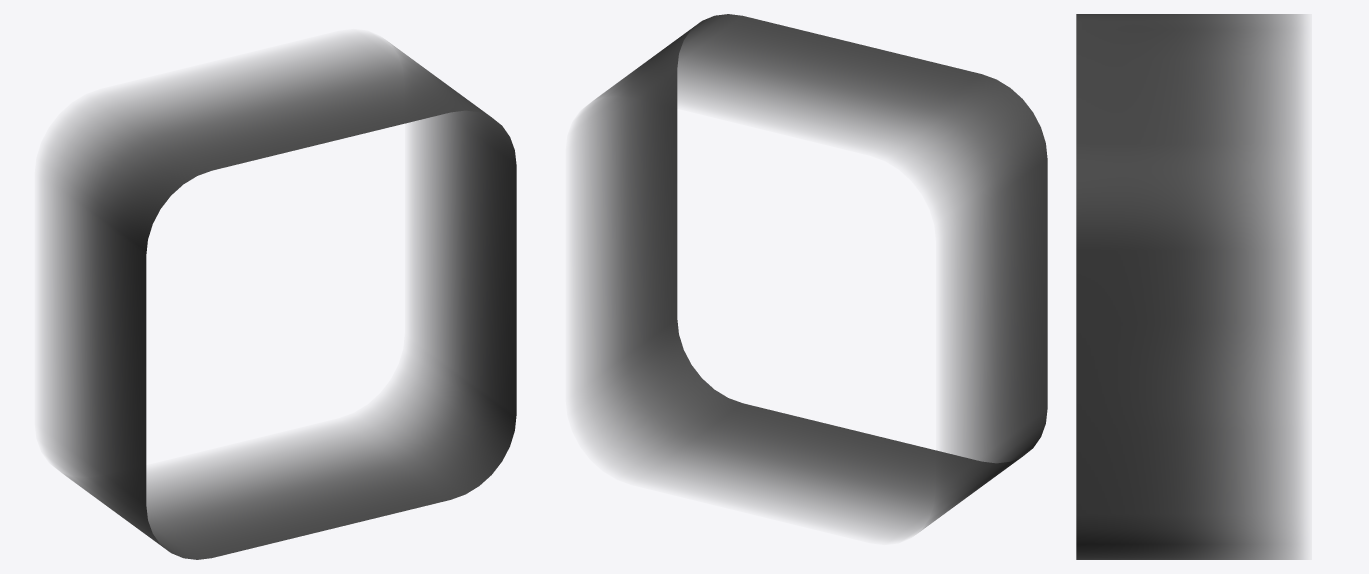
The model's file is frame.glb.
3 renders of one model, left to right at view 1: azimuth 30°, elevation 25°; view 2: azimuth 150°, elevation 25°; view 3: azimuth 270°, elevation 25°, orthographic. The views are drawn at different scales.
Visible parts, largest first — view 1: Cube; view 2: Cube; view 3: Cube.
Part boxes in pixels (x1=…): Cube: x1=41, y1=34, x2=516, y2=559; Cube: x1=572, y1=14, x2=1047, y2=539; Cube: x1=1076, y1=14, x2=1304, y2=559.
Size of the model in its own units: 6.22 by 6.22 by 3.84.
1 material, 1 textured.
